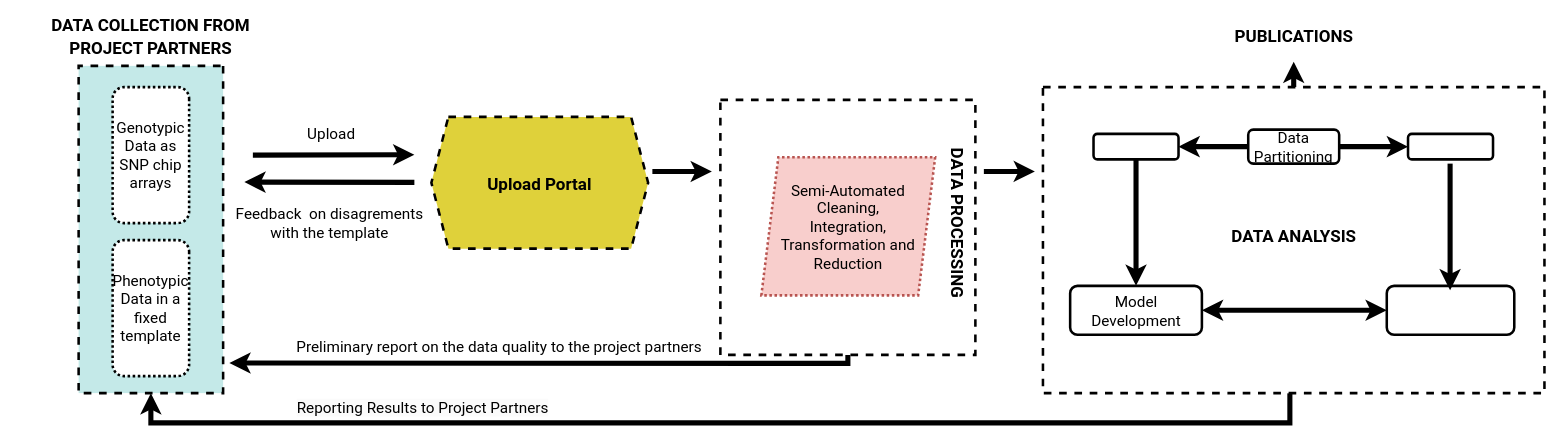
The diagram is 1560 pixels wide and 446 high, and some of its shapes have lost their labels. The shapes that lost their labels are listed below. From the top down, each one's box as (x1, y1, x2, y2) in pixels, then its label:
(1092, 132, 1179, 160): Training Set
(1406, 132, 1494, 160): Test Set
(1385, 284, 1515, 336): Model Validation
